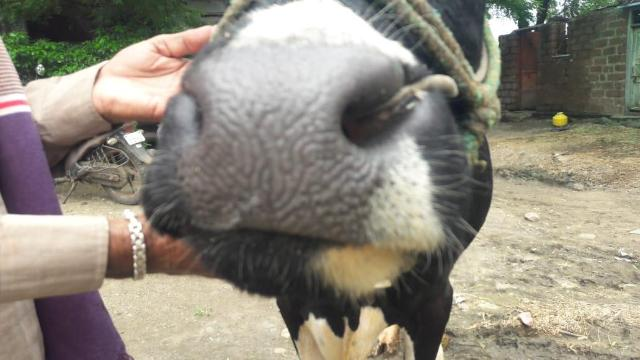Muzzle: (190, 69, 348, 235)
